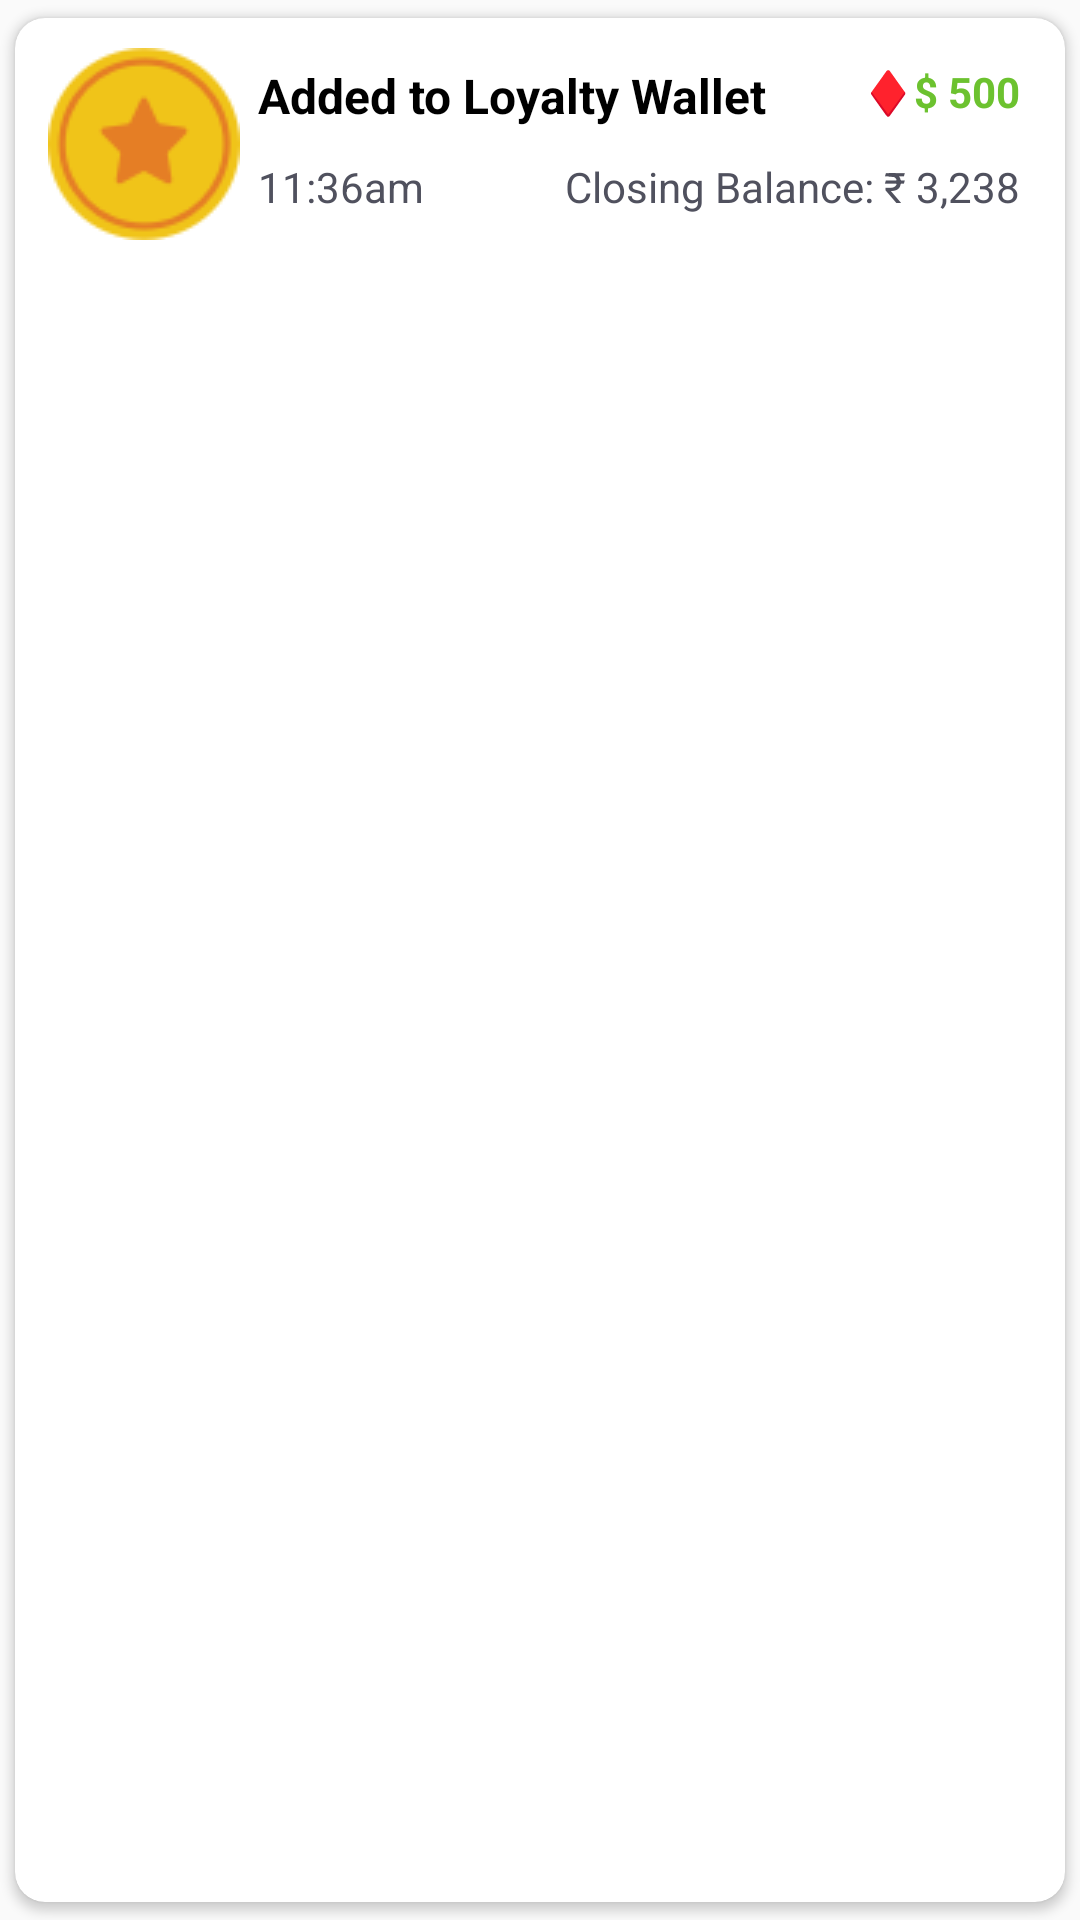

Named icons in this screenshot (1080w x 1920h) and their bounding boxes, BBox(x1, y1, x2, y2):
coin: BBox(48, 48, 240, 240)
